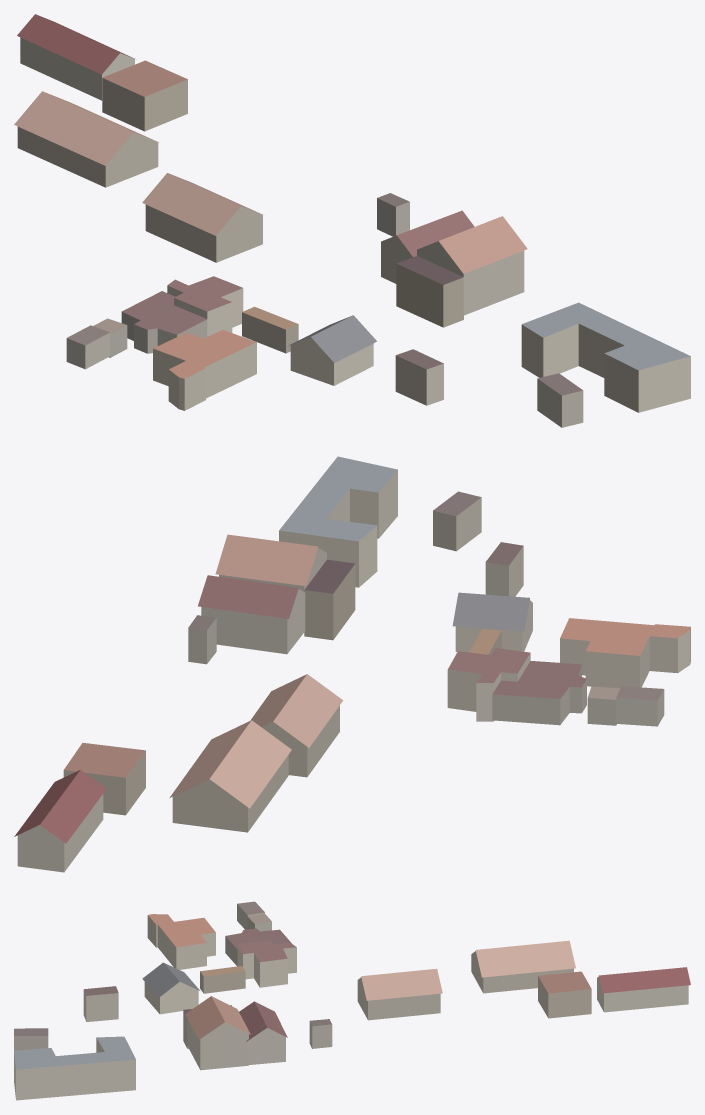
3 renders of one model, top to bottom at view 1: azimuth 30°, elevation 25°; view 2: azimuth 150°, elevation 25°; view 3: azimuth 270°, elevation 25°, orthographic. The views are drawn at different scales.
Parts seen in each view (by area): view 1: tuile; view 2: tuile; view 3: tuile.
Part boxes in pixels (left/top/right/bottom): tuile: left=14, top=14, right=690, bottom=427; tuile: left=14, top=456, right=690, bottom=872; tuile: left=14, top=901, right=690, bottom=1100.
Bounding box in the file's own units: 72.4 × 13.83 × 128.
